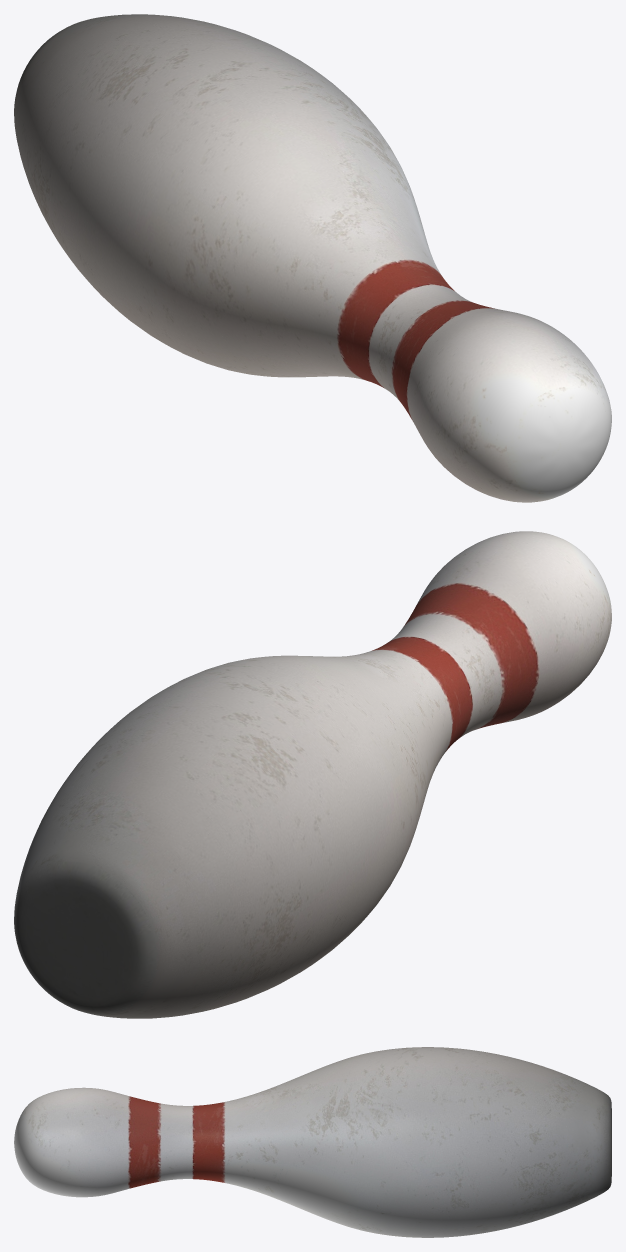
Rendered from bowling.obj.
The picture shows the model from 3 angles, top to bottom: view 1: azimuth 30°, elevation 25°; view 2: azimuth 150°, elevation 25°; view 3: azimuth 270°, elevation 25°; orthographic projection. The views are drawn at different scales.
Visible parts, largest first — view 1: objCylinder01; view 2: objCylinder01; view 3: objCylinder01.
Part boxes in pixels (<box>): objCylinder01: <box>14,14,611,502</box>; objCylinder01: <box>14,531,611,1018</box>; objCylinder01: <box>14,1047,611,1237</box>.
Bounding box in the file's own units: 12.09 × 12.09 × 37.87.
1 material, 1 textured.
